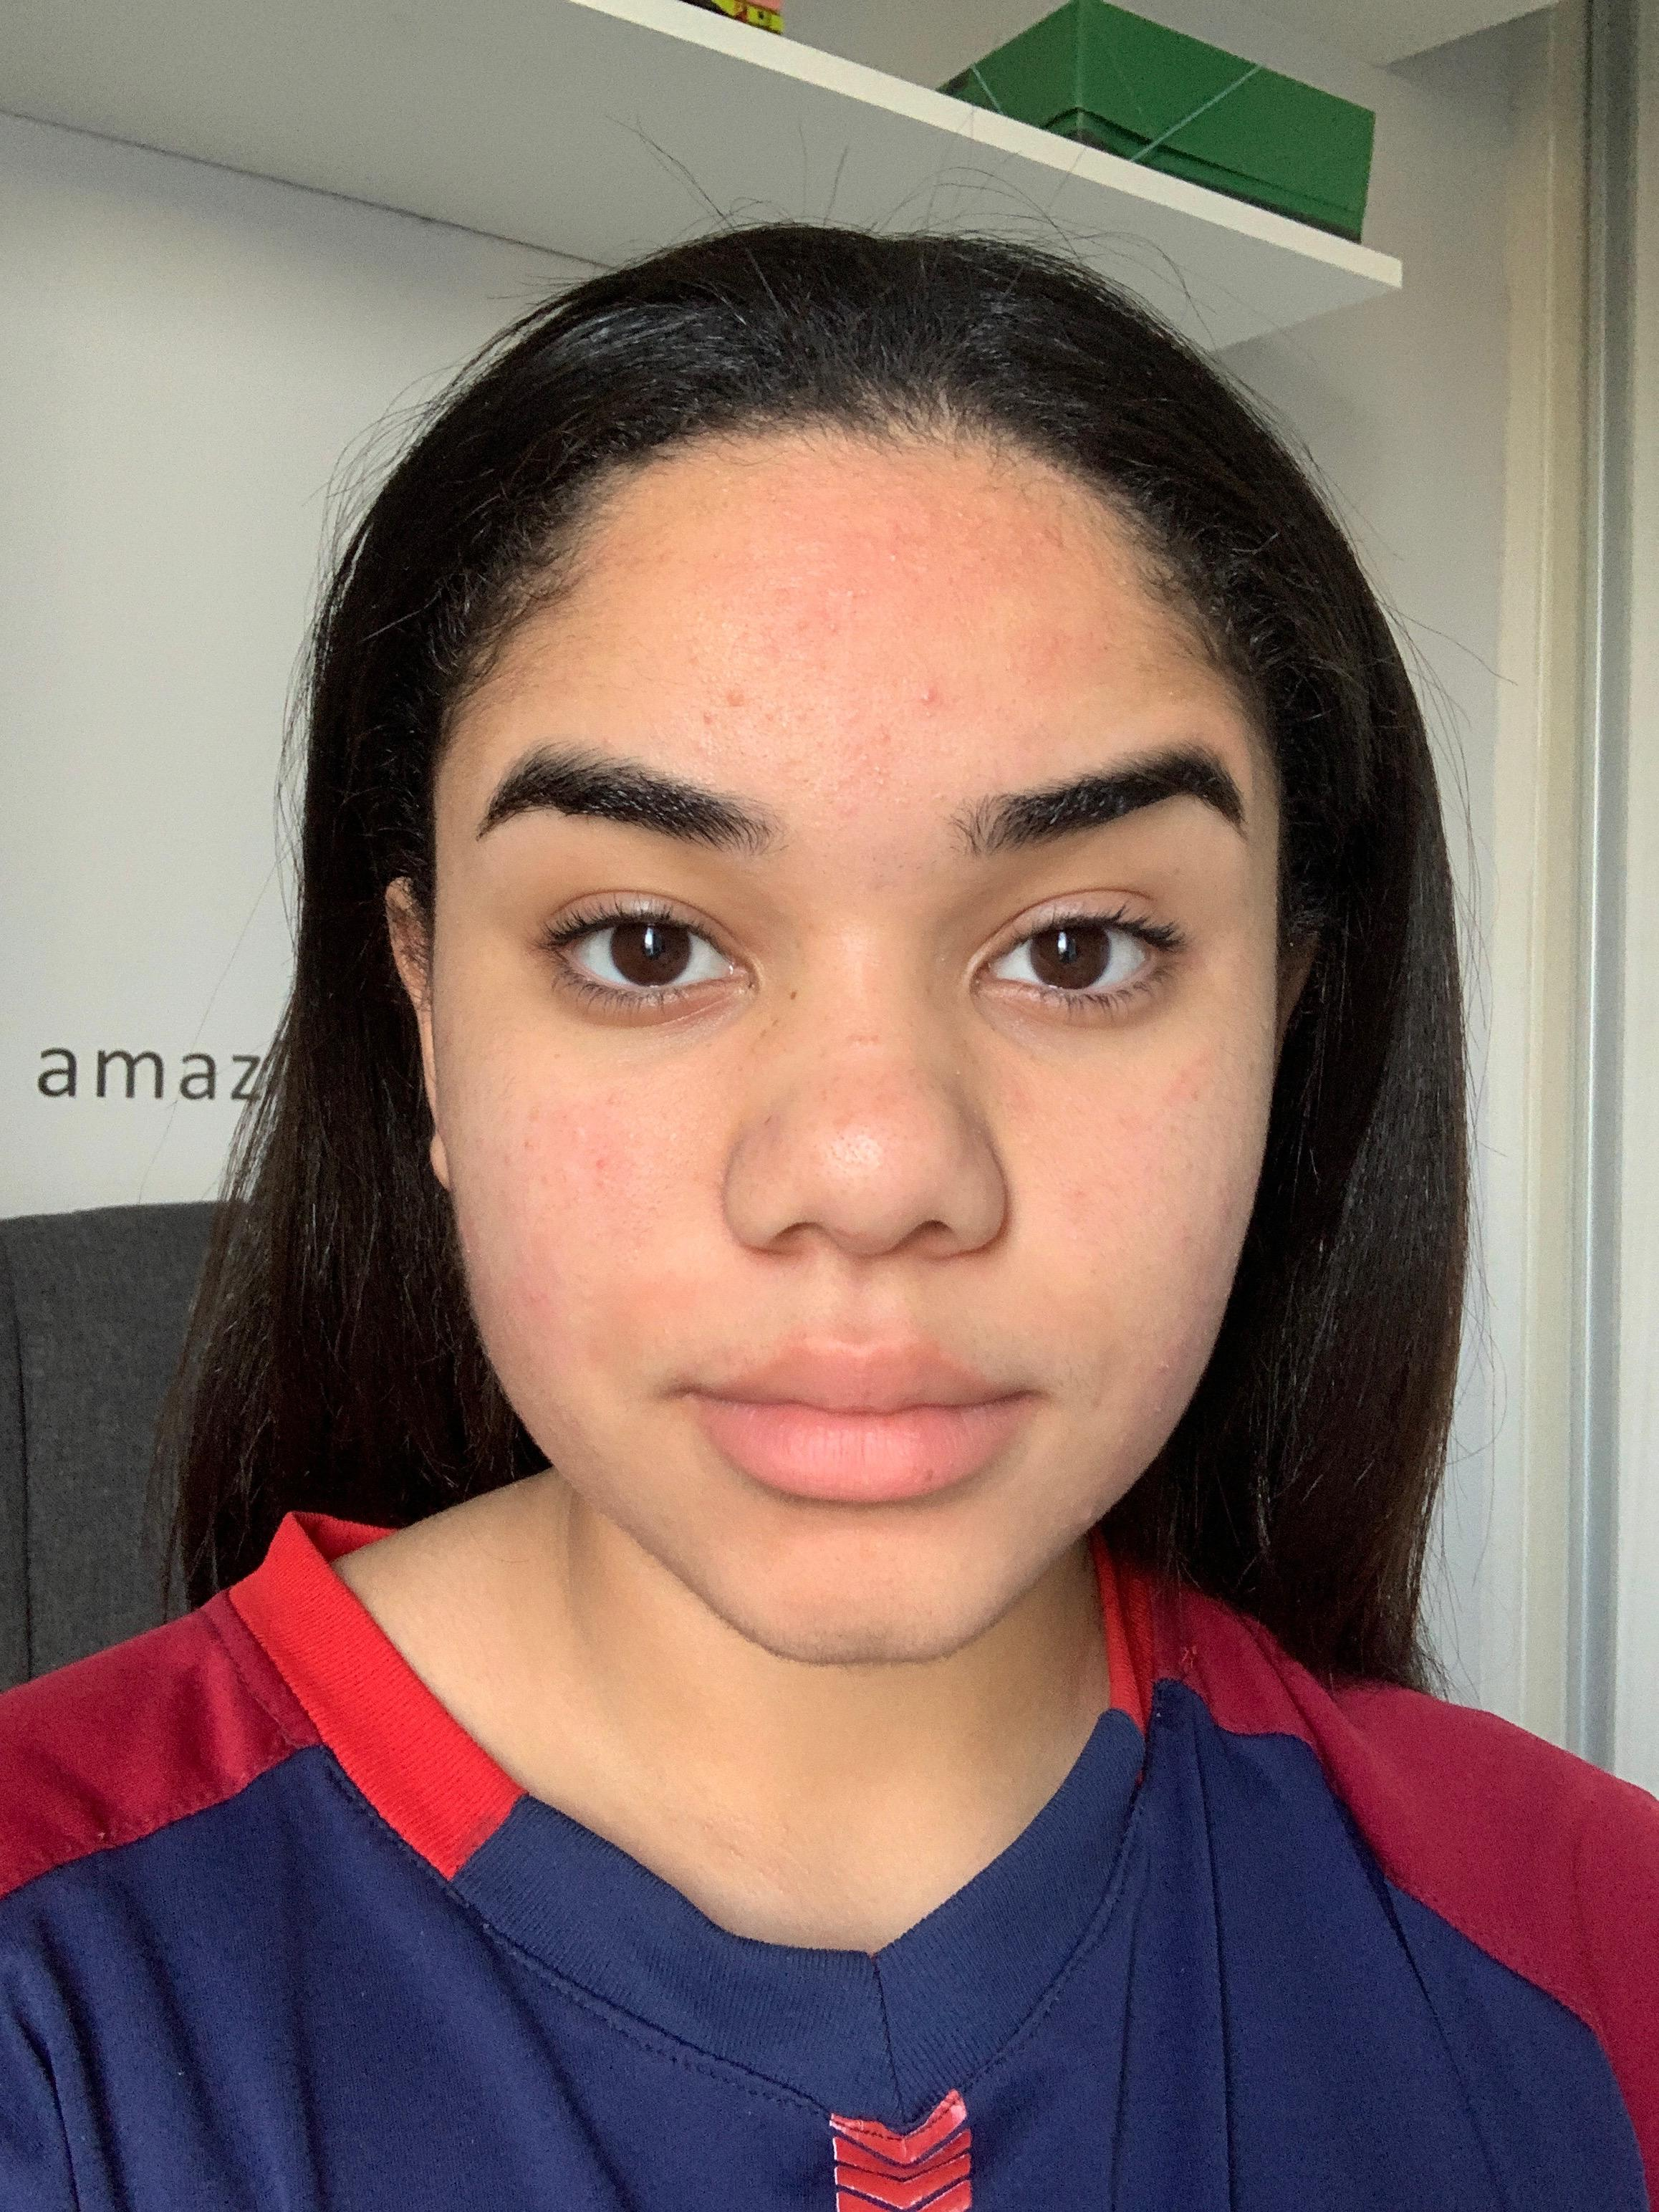Acne: (995, 655, 1044, 714), (657, 624, 709, 662), (718, 678, 760, 719), (866, 758, 904, 792), (829, 799, 856, 843), (884, 545, 922, 575), (519, 1280, 561, 1306), (842, 578, 880, 606), (918, 676, 943, 719), (1026, 523, 1061, 552), (868, 725, 903, 752), (589, 1160, 615, 1191), (931, 782, 958, 810), (713, 596, 744, 615), (951, 498, 974, 524), (821, 617, 842, 637), (1148, 1397, 1168, 1420), (605, 1089, 624, 1109), (519, 1137, 544, 1153), (695, 711, 718, 726), (1115, 1432, 1131, 1453), (1161, 1360, 1178, 1376), (1080, 1507, 1093, 1526)
Blackheads: (826, 1125, 885, 1188)
Englarged-Pores: (638, 1139, 701, 1224)
Eyebags: (967, 1003, 1213, 1085), (530, 993, 777, 1073)
